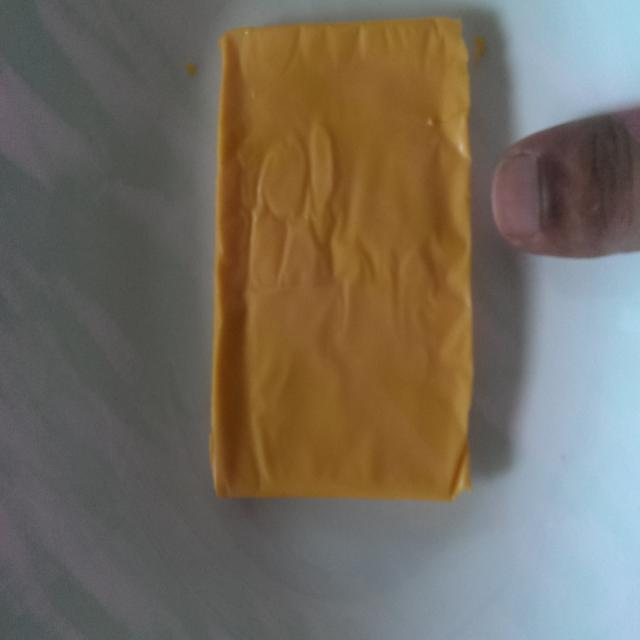cheese: (213, 12, 481, 529)
